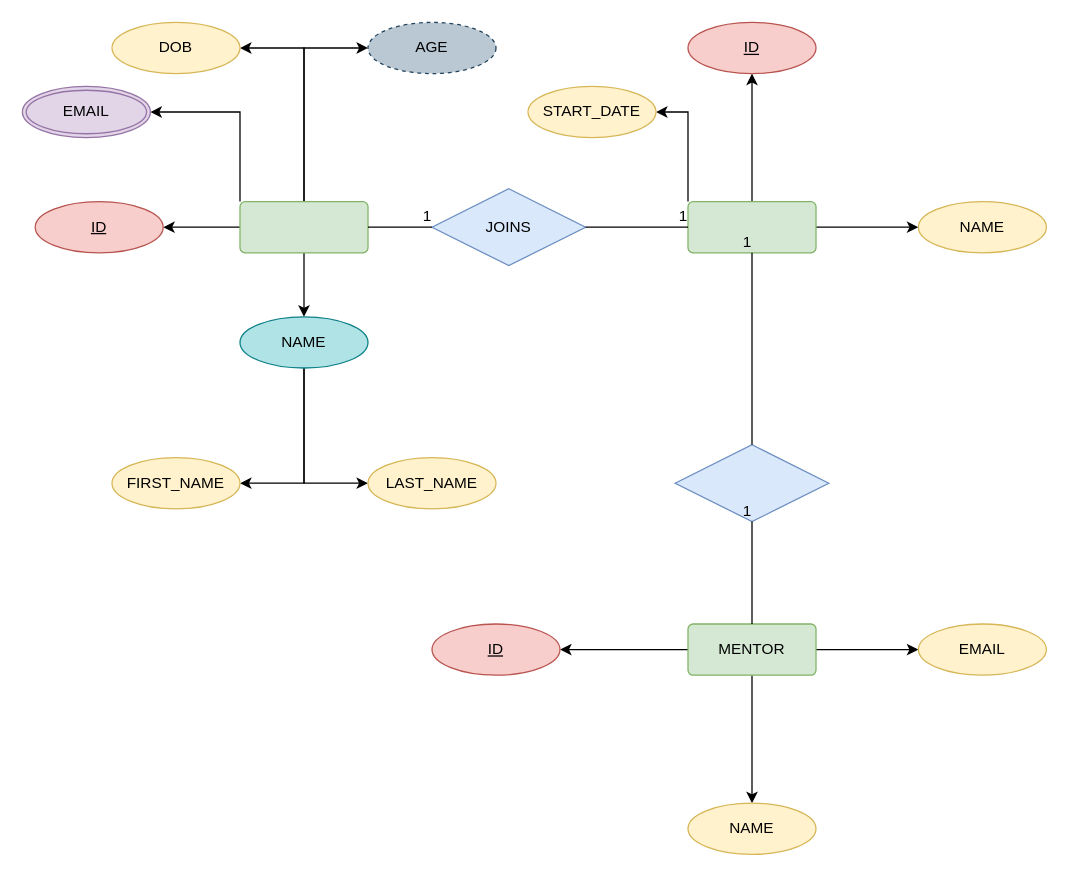
The diagram is 1069 pixels wide and 877 high, and some of its shapes have lost their labels. Each missing label, with the box of its shape:
BATCH: (687, 200, 816, 253)
HAS A: (674, 444, 829, 522)
STUDENTS: (239, 200, 368, 253)
